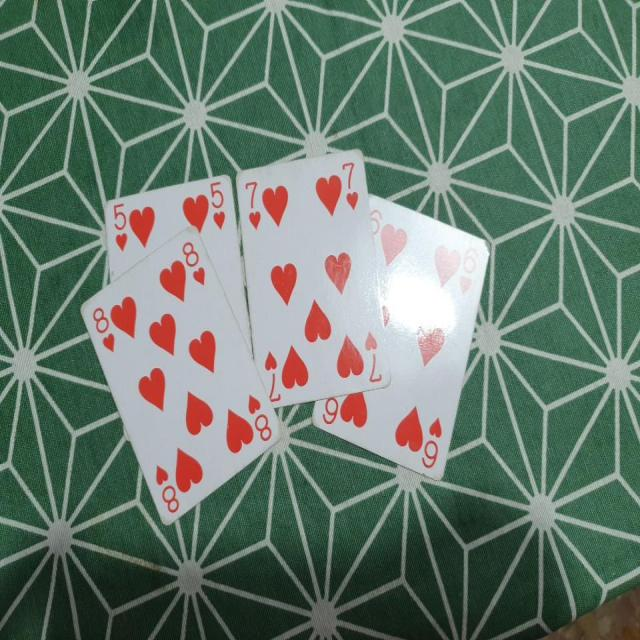5 Hearts: (102, 162, 251, 340)
6 Hearts: (311, 181, 492, 490)
7 Hearts: (235, 146, 392, 404)
8 Hearts: (86, 221, 282, 531)
